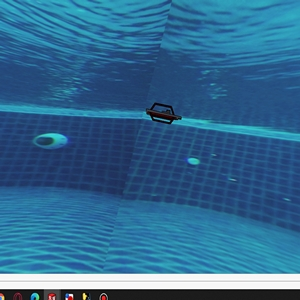submarine: (141, 104, 181, 124)
